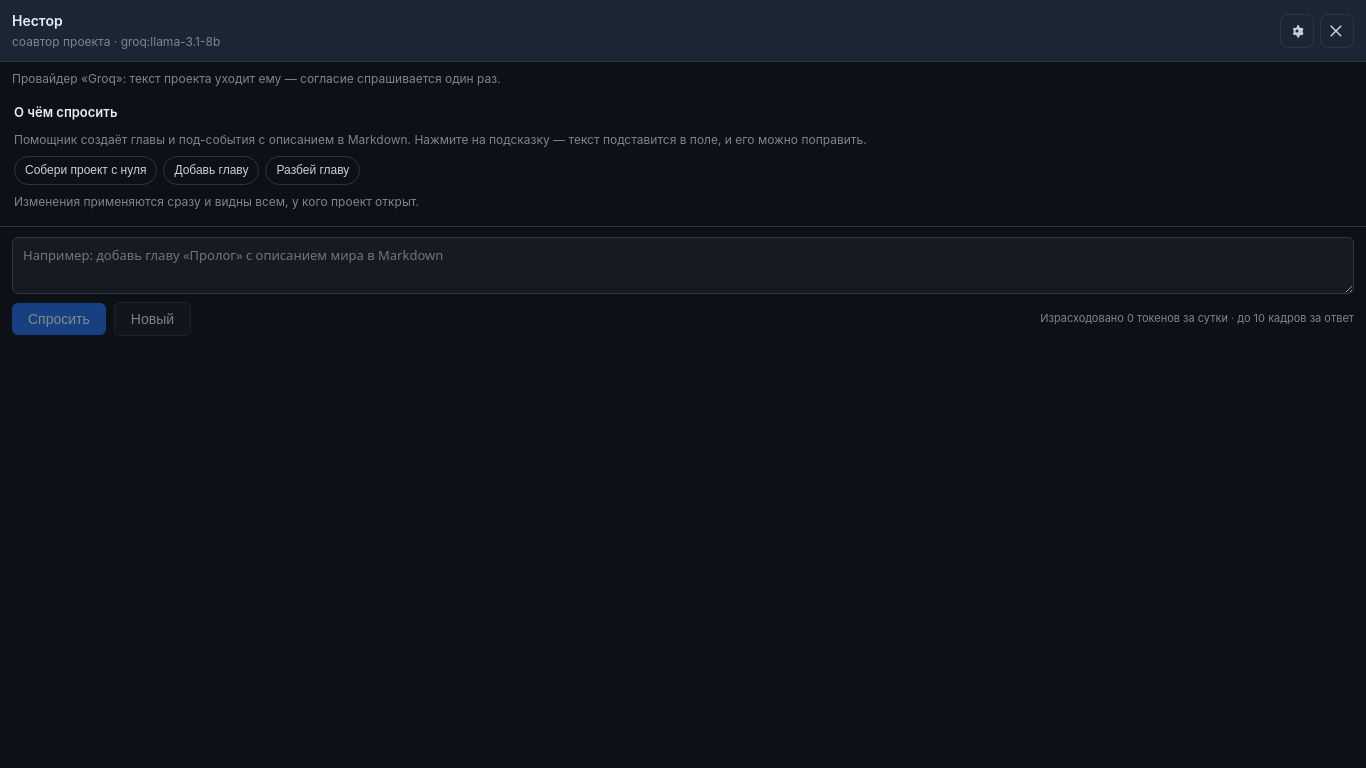
Test: AssistantPanel › без AI_SECRET_KEY адрес ввести можно, а ключ — нет
What coordinates should you click on to do the following:
click the button named "Настройка помощника"
I would click on:
 (1297, 30)
Its box is [1280, 14, 1314, 48].
(page scrolled)
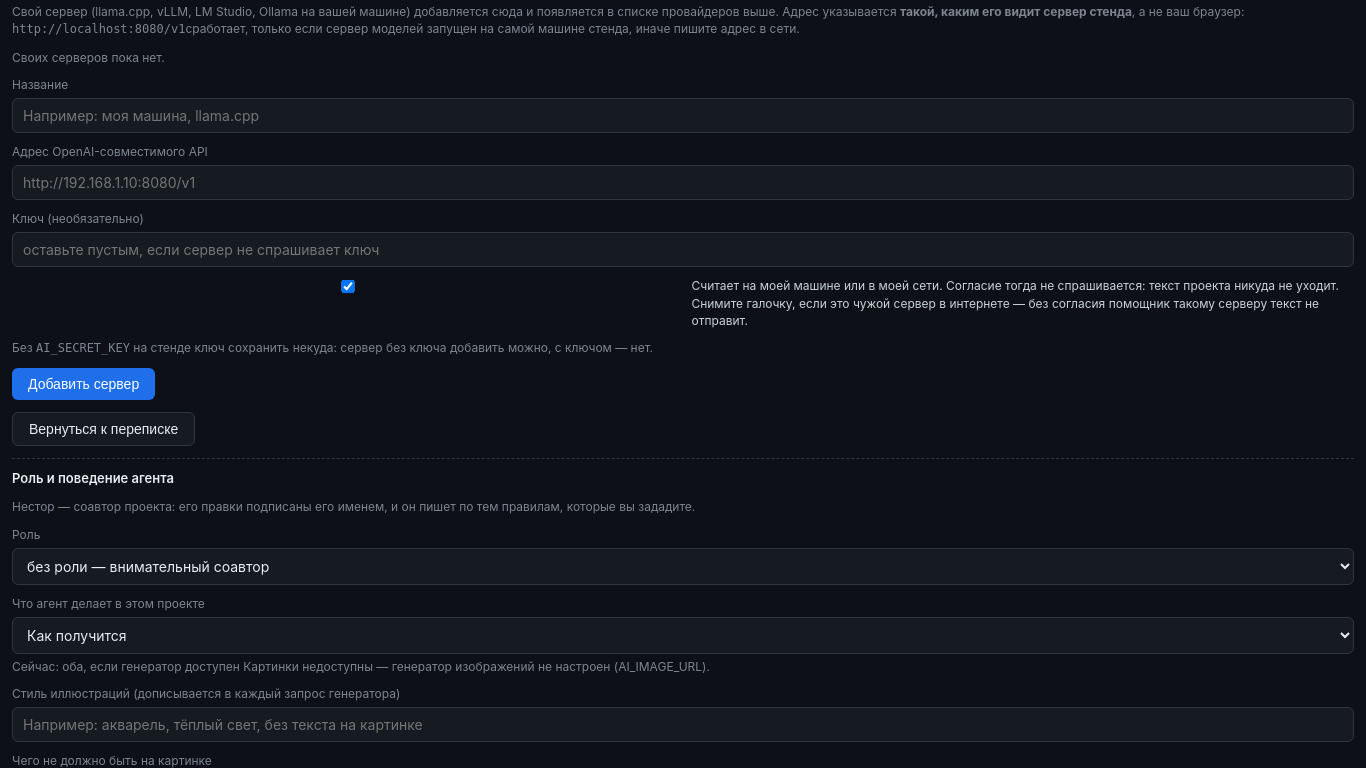
expect the field named "Адрес своего сервера" is enabled: met, box [12, 165, 1354, 200]
expect the password field named "Ключ своего сервера" is disabled: met, box [12, 232, 1354, 267]
expect the button "Добавить сервер" is enabled: met, box [12, 368, 155, 400]
